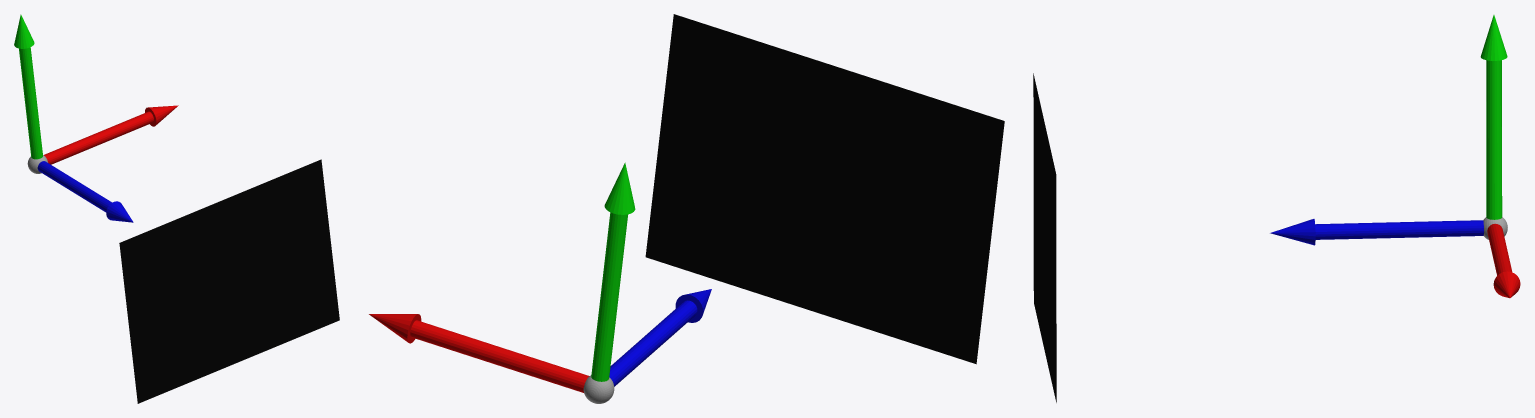
The picture shows the model from 3 angles, left to right: view 1: azimuth 30°, elevation 25°; view 2: azimuth 150°, elevation 25°; view 3: azimuth 270°, elevation 25°; orthographic projection. The views are drawn at different scales.
Size of the model in its own units: 0.2029 by 0.1997 by 0.2703.
